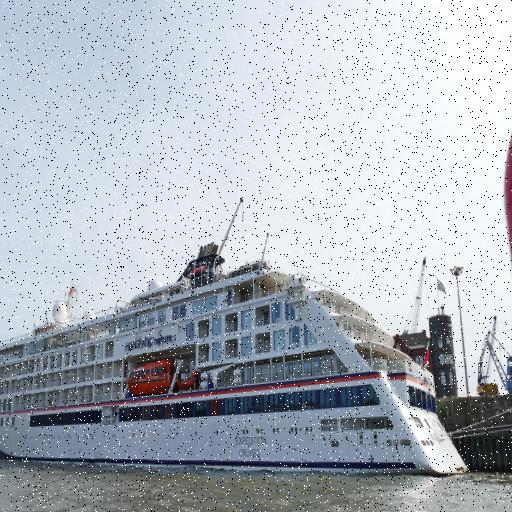cruises: (1, 240, 471, 485)
